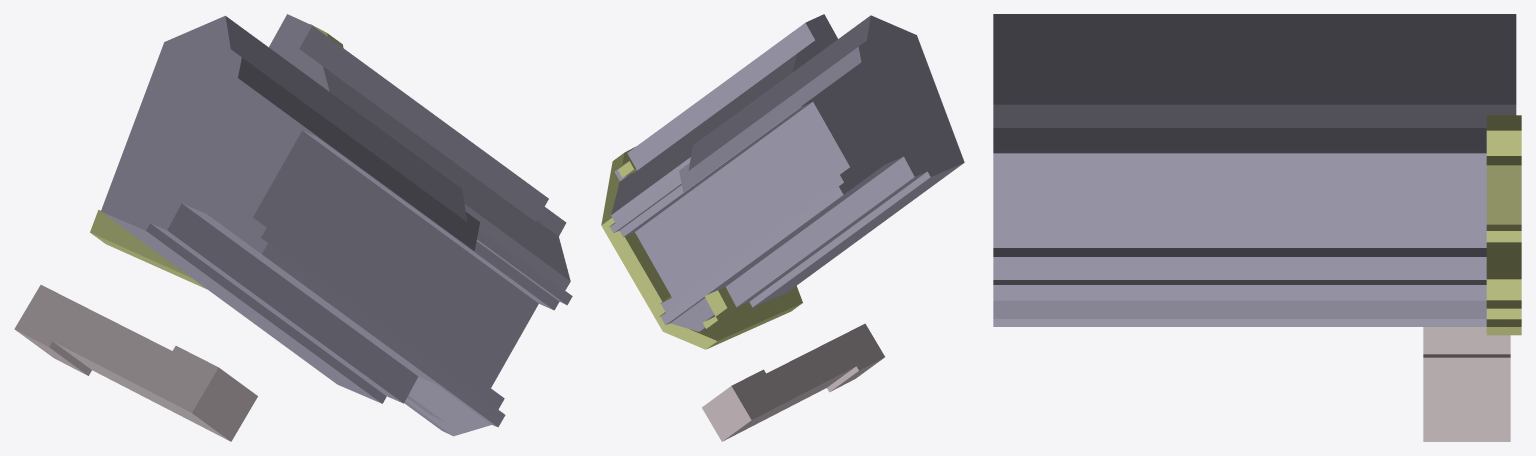
3 renders of one model, left to right at view 1: azimuth 30°, elevation 25°; view 2: azimuth 150°, elevation 25°; view 3: azimuth 270°, elevation 25°, orthographic. The views are drawn at different scales.
Visible parts, largest first — view 1: 0_3_2_0_2_0_1_2; view 2: 0_3_2_0_2_0_1_2; view 3: 0_3_2_0_2_0_1_2.
Boxes of the visible parts, box(x1,y1,x2,y2) form: 0_3_2_0_2_0_1_2: box(14, 14, 572, 441); 0_3_2_0_2_0_1_2: box(601, 14, 964, 441); 0_3_2_0_2_0_1_2: box(993, 14, 1521, 441).
Bounding box in the file's own units: 73.08 × 81.11 × 90.9.
